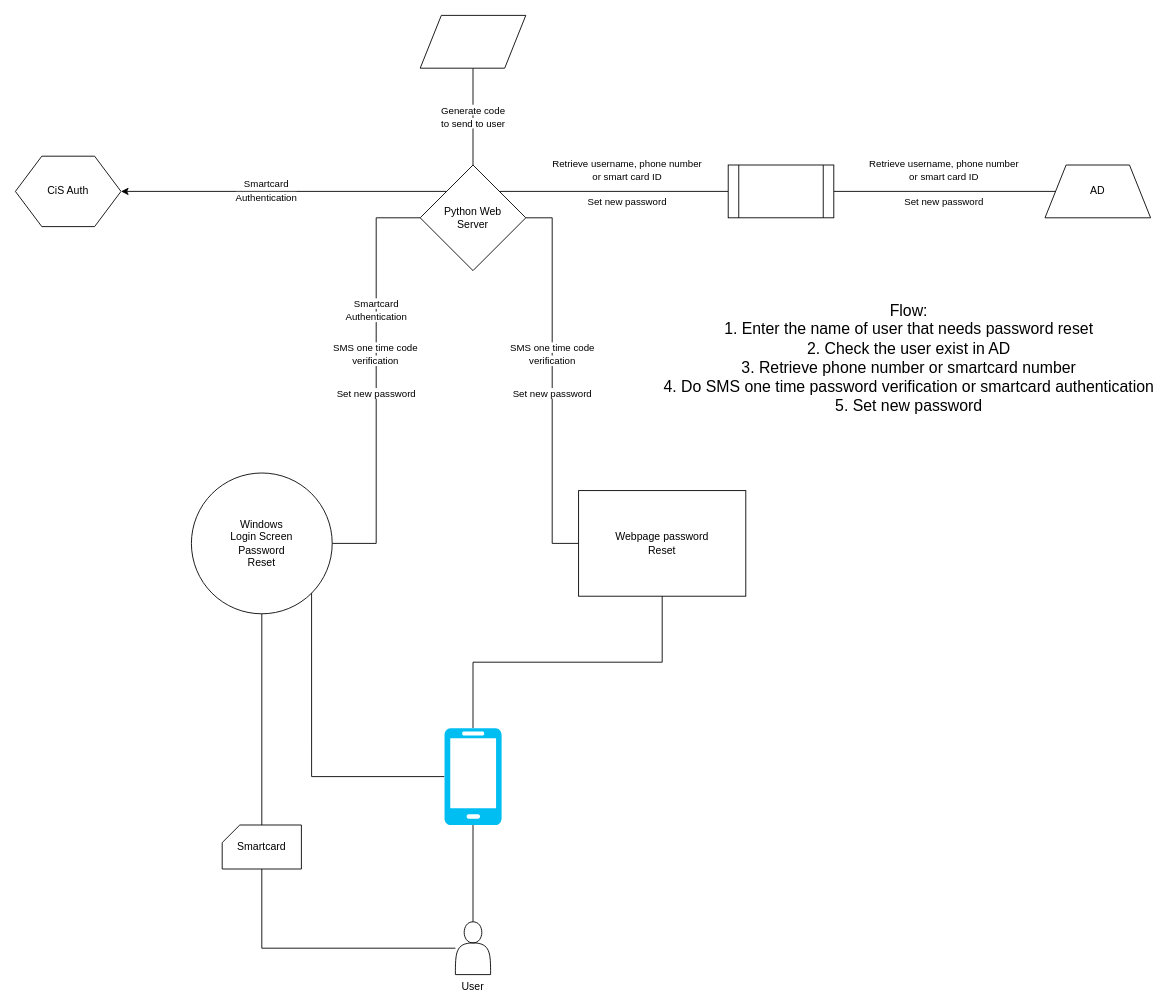
Image size: 1175x1008. Some labels were removed from this diagram. The box of each missing label's shape, as (x1, y1, x2, y2) in pixels:
Phone: (444, 728, 501, 825)
Python App: (727, 164, 834, 218)
SMS Service: (419, 15, 526, 68)
